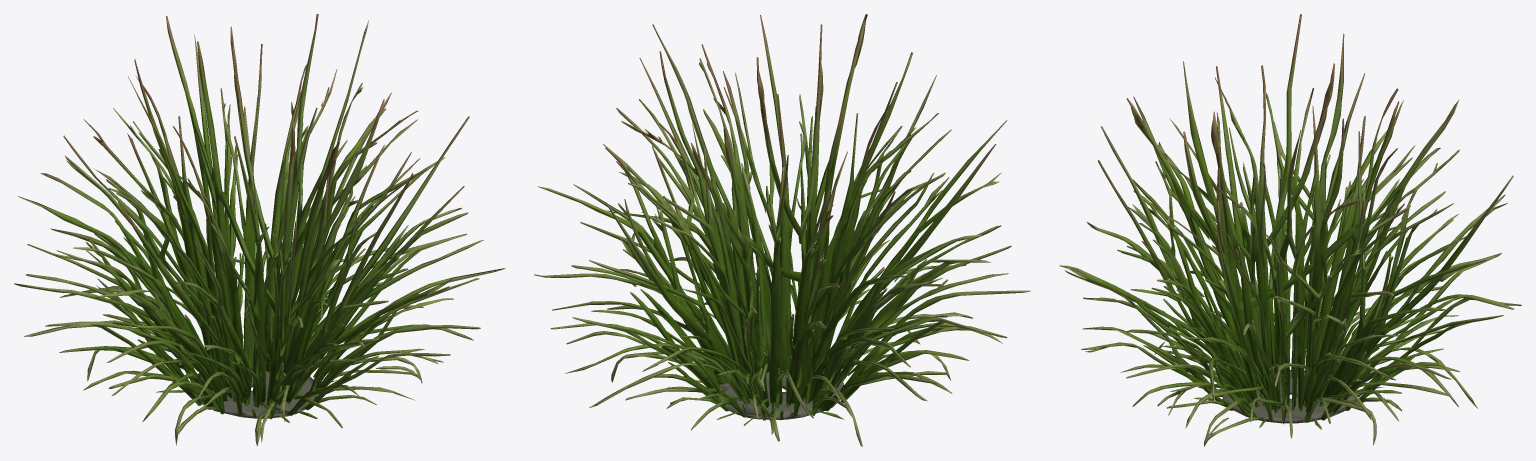
Rendered from grass_clump.glb.
3 renders of one model, left to right at view 1: azimuth 30°, elevation 25°; view 2: azimuth 150°, elevation 25°; view 3: azimuth 270°, elevation 25°, orthographic. The views are drawn at different scales.
Parts seen in each view (by area): view 1: tripo_node_1eb2eecd-053c-46f1-bb56-488af0c5dbca; view 2: tripo_node_1eb2eecd-053c-46f1-bb56-488af0c5dbca; view 3: tripo_node_1eb2eecd-053c-46f1-bb56-488af0c5dbca.
Part boxes in pixels (<box>): tripo_node_1eb2eecd-053c-46f1-bb56-488af0c5dbca: <box>14,14,505,446</box>; tripo_node_1eb2eecd-053c-46f1-bb56-488af0c5dbca: <box>534,14,1030,446</box>; tripo_node_1eb2eecd-053c-46f1-bb56-488af0c5dbca: <box>1059,14,1521,446</box>.
Bounding box in the file's own units: 0.9818 × 0.7794 × 0.9766.
1 material, 1 textured.
